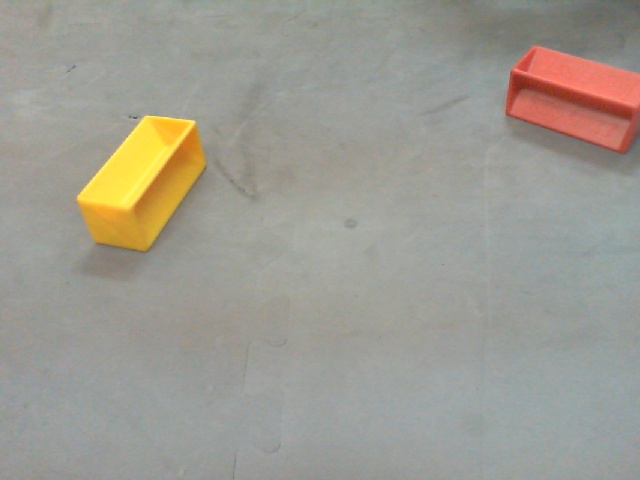RedSample: (504, 46, 640, 153)
YellowSample: (76, 112, 210, 256)
